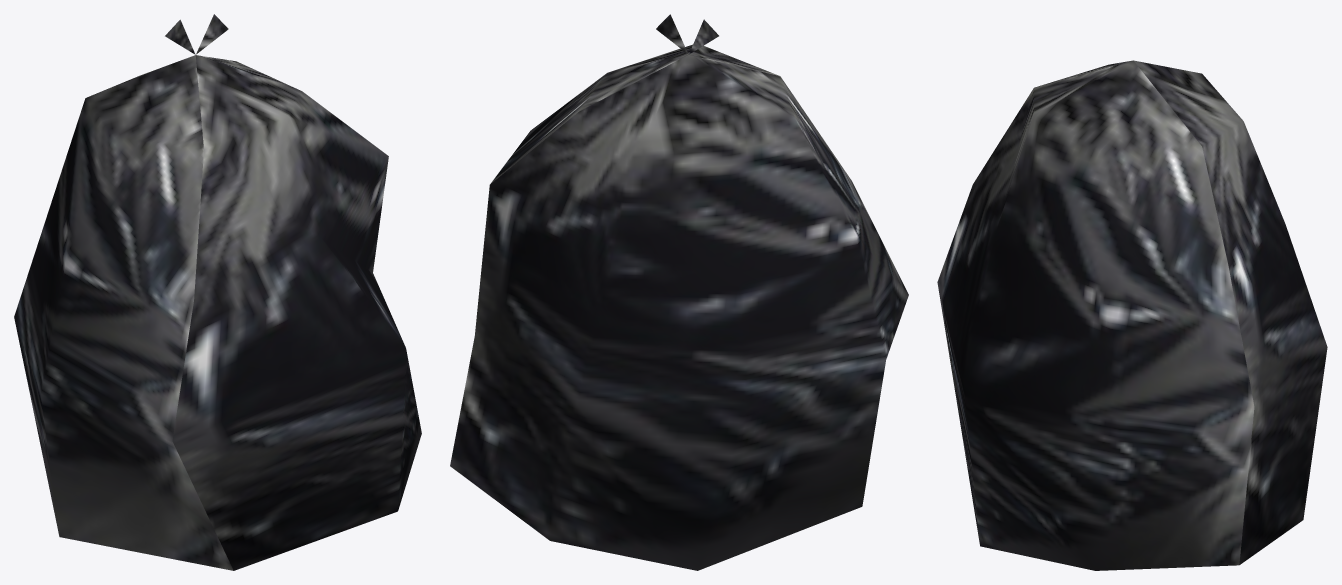
Rendered from kukaszsak.fbx.
3 views of the same model, side by side, from view 1: azimuth 30°, elevation 25°; view 2: azimuth 150°, elevation 25°; view 3: azimuth 270°, elevation 25° (orthographic).
Visible parts, largest first — view 1: Cylinder; view 2: Cylinder; view 3: Cylinder.
Boxes of the visible parts, box(x1,y1,x2,y2) form: Cylinder: box(14, 14, 421, 570); Cylinder: box(450, 14, 908, 570); Cylinder: box(937, 60, 1327, 570).
Bounding box in the file's own units: 105 × 136 × 93.78.
1 material, 1 textured.
